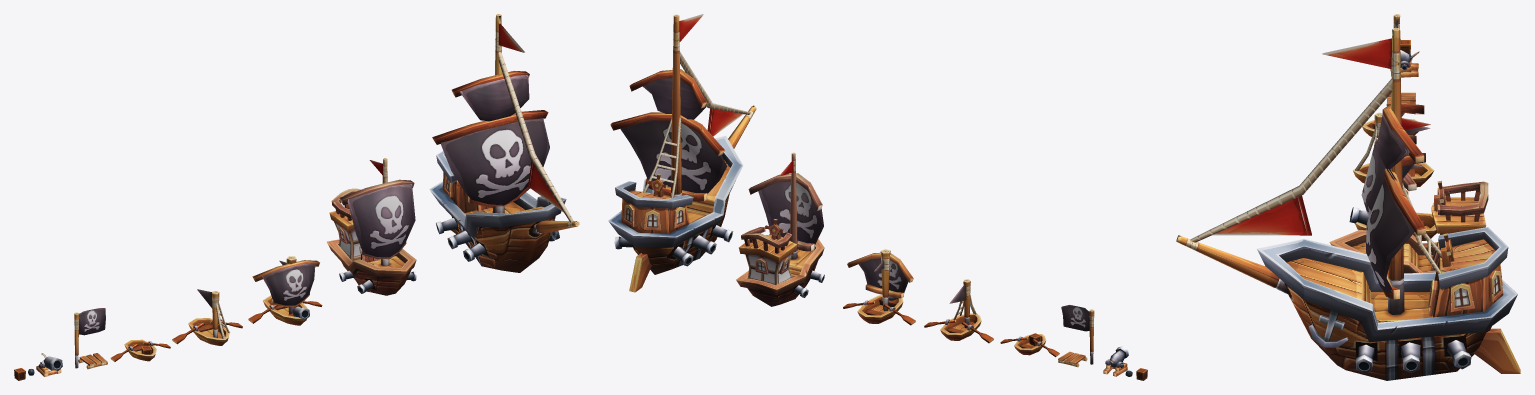
Rendered from Pirat_Boats_01.fbx.
3 renders of one model, left to right at view 1: azimuth 30°, elevation 25°; view 2: azimuth 150°, elevation 25°; view 3: azimuth 270°, elevation 25°, orthographic. The views are drawn at different scales.
Visible parts, largest first — view 1: pirate_boat_05, pirate_boat_04, pirate_boat_03, pirate_boat_02, pirat_flag, pirate_boat_01; view 2: pirate_boat_05, pirate_boat_04, pirate_boat_03, pirate_boat_02, pirat_flag, pirate_boat_01, pirat_cannon; view 3: pirate_boat_05, pirate_boat_04, pirate_boat_02, pirate_boat_03, pirat_cannon.
Part boxes in pixels (x1=…): pirate_boat_05: x1=429, y1=14, x2=579, y2=272; pirate_boat_04: x1=327, y1=158, x2=416, y2=295; pirate_boat_03: x1=248, y1=256, x2=322, y2=325; pirate_boat_02: x1=172, y1=289, x2=242, y2=345; pirat_flag: x1=74, y1=308, x2=105, y2=368; pirate_boat_01: x1=110, y1=339, x2=170, y2=361; pirate_boat_05: x1=608, y1=14, x2=756, y2=292; pirate_boat_04: x1=736, y1=152, x2=824, y2=306; pirate_boat_03: x1=843, y1=249, x2=915, y2=325; pirate_boat_02: x1=924, y1=279, x2=993, y2=343; pirat_flag: x1=1061, y1=305, x2=1094, y2=364; pirate_boat_01: x1=1000, y1=333, x2=1059, y2=357; pirat_cannon: x1=1103, y1=346, x2=1128, y2=376; pirate_boat_05: x1=1176, y1=28, x2=1520, y2=380; pirate_boat_04: x1=1329, y1=118, x2=1488, y2=273; pirate_boat_02: x1=1353, y1=112, x2=1434, y2=194; pirate_boat_03: x1=1349, y1=164, x2=1437, y2=240; pirat_cannon: x1=1390, y1=50, x2=1419, y2=77.
Bounding box in the file's own units: 4037 × 1830 × 1619.
